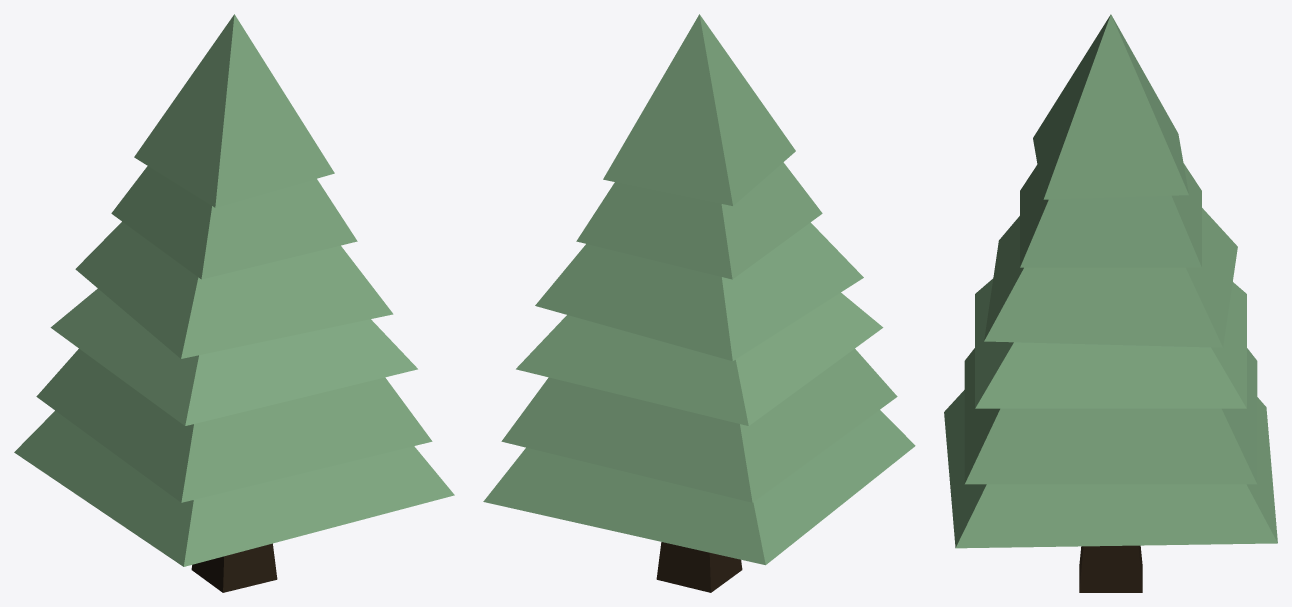
The model's file is S_Tree.fbx.
3 views of the same model, side by side, from view 1: azimuth 30°, elevation 25°; view 2: azimuth 150°, elevation 25°; view 3: azimuth 270°, elevation 25° (orthographic).
Visible parts, largest first — view 1: Tree; view 2: Tree; view 3: Tree.
Part boxes in pixels (x1,y1,x2,y2): Tree: (14, 14, 454, 592); Tree: (483, 14, 915, 592); Tree: (944, 14, 1277, 592).
Size of the model in its own units: 11.1 by 20.74 by 11.1.
